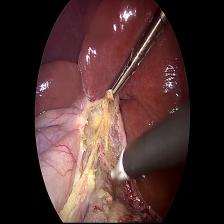Grasper: (101, 13, 167, 108)
Hook: (102, 146, 129, 196)
